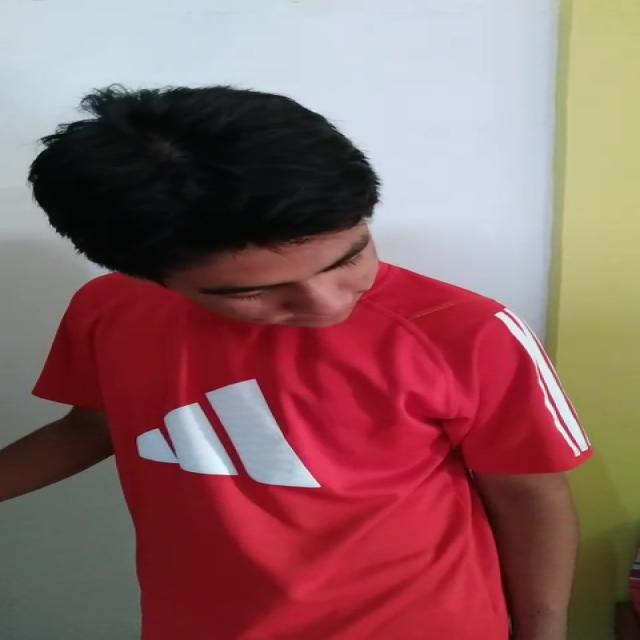9_cabeza_baja: (31, 89, 381, 327)
